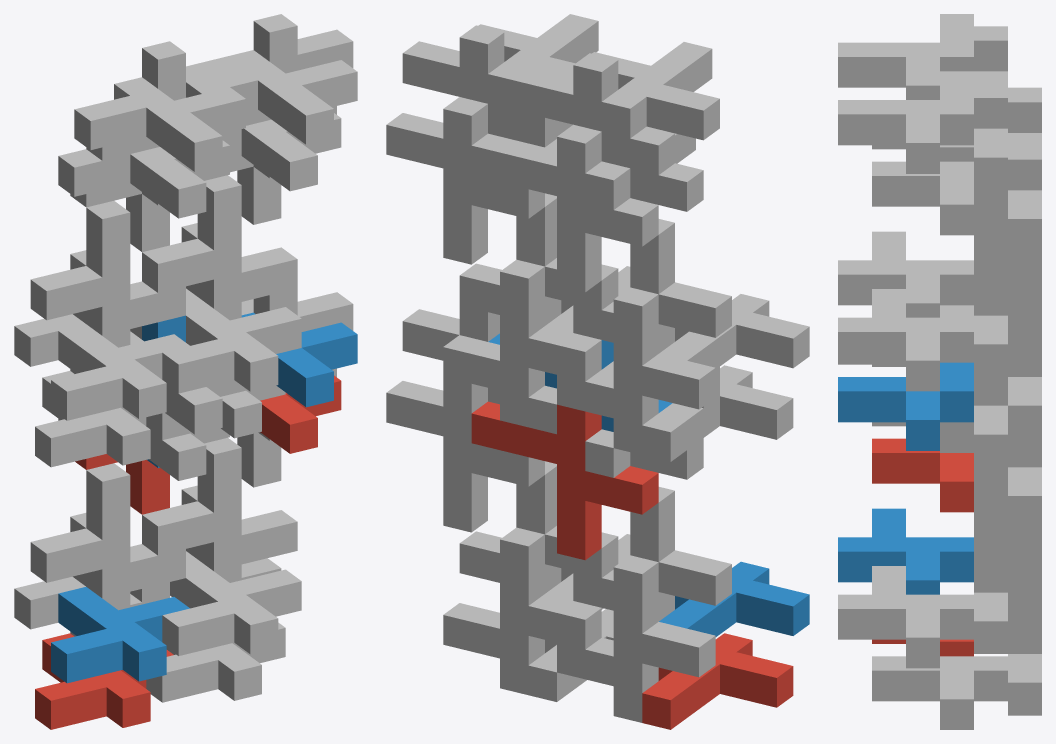
Rendered from tiling.obj.
3 renders of one model, left to right at view 1: azimuth 30°, elevation 25°; view 2: azimuth 150°, elevation 25°; view 3: azimuth 270°, elevation 25°, orthographic. The views are drawn at different scales.
Visible parts, largest first — view 1: copy_3_domain_6, copy_3_domain_8, copy_3_domain_2, copy_3_domain_4, copy_2_domain_4, copy_1_domain_6, copy_1_domain_8, copy_1_domain_4, copy_1_domain_2, copy_2_domain_8, copy_2_domain_3, copy_1_domain_1 (+20 smaller); view 2: copy_3_domain_7, copy_3_domain_5, copy_3_domain_1, copy_3_domain_3, copy_4_domain_3, copy_4_domain_7, copy_4_domain_5, copy_4_domain_1, copy_2_domain_4, copy_4_domain_4, copy_3_domain_2, copy_3_domain_4 (+18 smaller); view 3: copy_1_domain_6, copy_1_domain_8, copy_2_domain_8, copy_2_domain_6, copy_1_domain_2, copy_1_domain_4, copy_2_domain_4, copy_1_domain_5, copy_4_domain_7, copy_4_domain_8, copy_4_domain_5, copy_2_domain_7 (+12 smaller).
Boxes of the visible parts, <box> form: copy_3_domain_6: <box>142,437,297,582</box>; copy_3_domain_8: <box>142,175,297,320</box>; copy_3_domain_2: <box>30,463,185,610</box>; copy_3_domain_4: <box>30,201,185,347</box>; copy_2_domain_4: <box>74,77,245,171</box>; copy_1_domain_6: <box>162,559,301,655</box>; copy_1_domain_8: <box>162,297,301,393</box>; copy_1_domain_4: <box>51,324,189,420</box>; copy_1_domain_2: <box>51,587,189,683</box>; copy_2_domain_8: <box>186,50,357,144</box>; copy_2_domain_3: <box>58,140,229,218</box>; copy_1_domain_1: <box>35,633,173,729</box>; copy_3_domain_7: <box>443,259,601,427</box>; copy_3_domain_5: <box>443,527,601,695</box>; copy_3_domain_1: <box>557,555,715,722</box>; copy_3_domain_3: <box>557,287,715,454</box>; copy_4_domain_3: <box>500,124,658,292</box>; copy_4_domain_7: <box>386,97,544,264</box>; copy_4_domain_5: <box>386,377,544,532</box>; copy_4_domain_1: <box>500,404,658,560</box>; copy_2_domain_4: <box>592,42,719,140</box>; copy_4_domain_4: <box>516,53,674,175</box>; copy_3_domain_2: <box>573,487,731,621</box>; copy_3_domain_4: <box>573,219,731,353</box>; copy_1_domain_6: <box>838,566,973,668</box>; copy_1_domain_8: <box>838,289,973,391</box>; copy_2_domain_8: <box>838,71,973,173</box>; copy_2_domain_6: <box>838,362,973,450</box>; copy_1_domain_2: <box>838,508,973,594</box>; copy_1_domain_4: <box>838,231,973,317</box>; copy_2_domain_4: <box>838,14,973,99</box>; copy_1_domain_5: <box>872,656,1007,729</box>; copy_4_domain_7: <box>1008,145,1041,313</box>; copy_4_domain_8: <box>974,83,1007,251</box>; copy_4_domain_5: <box>1008,436,1041,590</box>; copy_2_domain_7: <box>872,161,973,235</box>.
Bounding box in the file's own units: 12 × 21 × 6.
